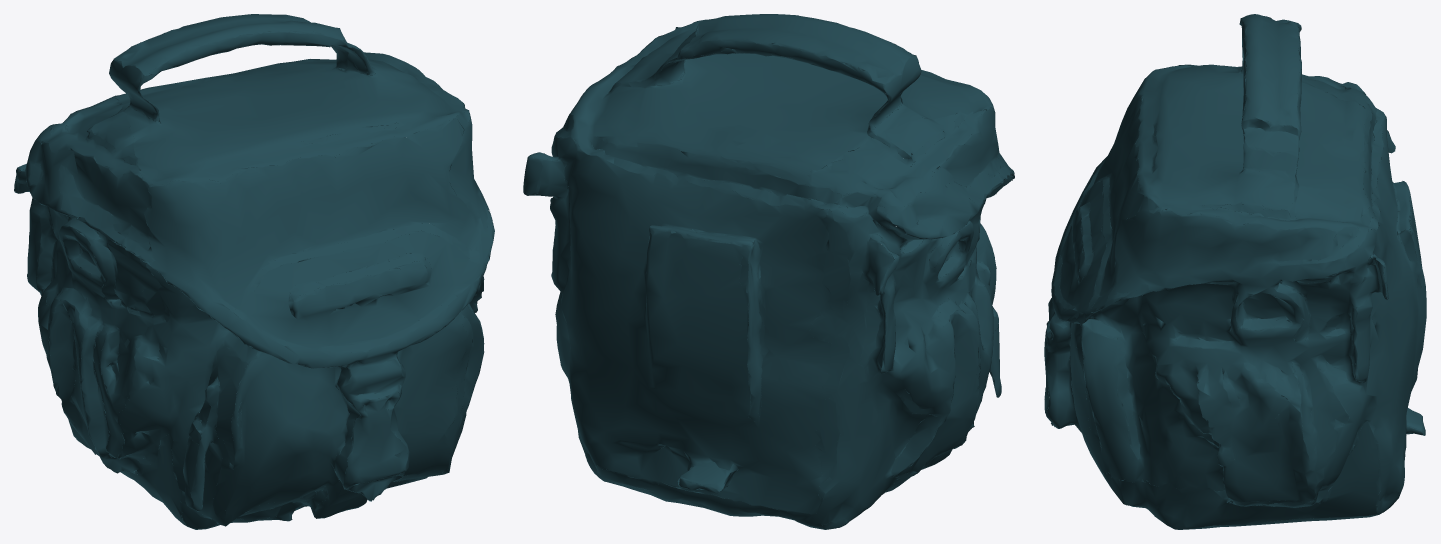
File: camera_bag.glb
3 views of the same model, side by side, from view 1: azimuth 30°, elevation 25°; view 2: azimuth 150°, elevation 25°; view 3: azimuth 270°, elevation 25° (orthographic). The views are drawn at different scales.
Parts seen in each view (by area): view 1: camera_bag; view 2: camera_bag; view 3: camera_bag.
Part boxes in pixels (x1,y1,x2,y2): camera_bag: (14,14,494,529); camera_bag: (523,14,1014,529); camera_bag: (1044,14,1426,529).
Bounding box in the file's own units: 0.2199 × 0.24 × 0.1994.
